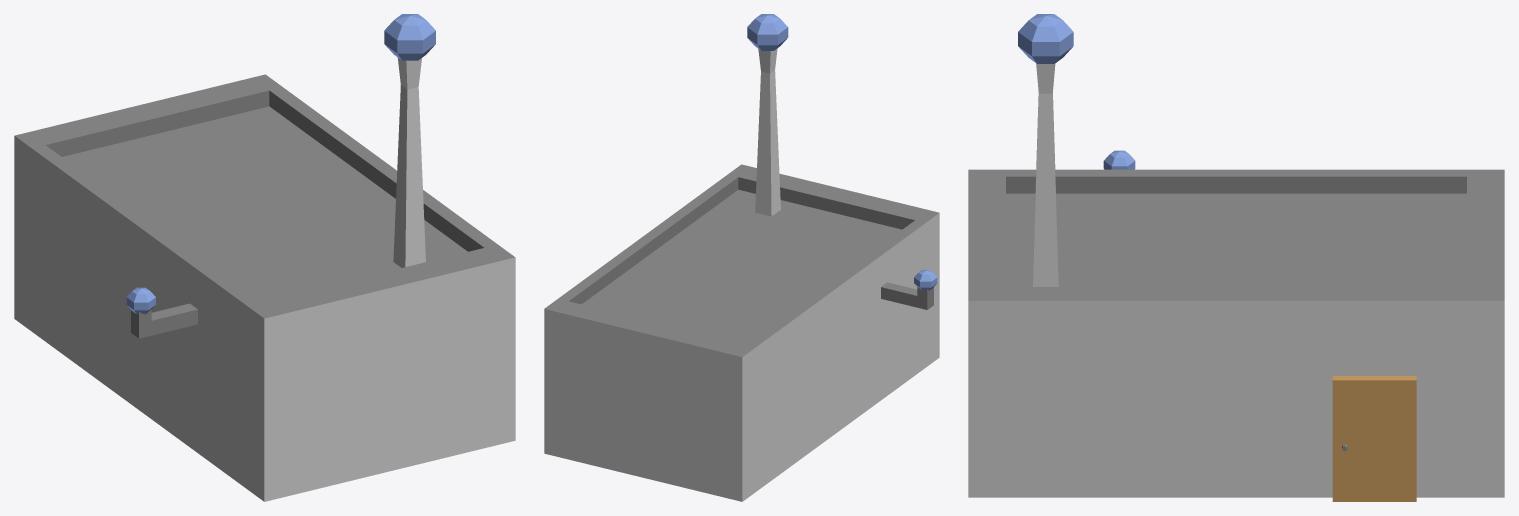
The model's file is bMinisub1.glb.
3 renders of one model, left to right at view 1: azimuth 30°, elevation 25°; view 2: azimuth 150°, elevation 25°; view 3: azimuth 270°, elevation 25°, orthographic. The views are drawn at different scales.
Parts seen in each view (by area): view 1: Мини Подстанция 1; view 2: Мини Подстанция 1; view 3: Мини Подстанция 1.
Part boxes in pixels (x1,y1,x2,y2): Мини Подстанция 1: (14, 14, 515, 501); Мини Подстанция 1: (544, 14, 939, 501); Мини Подстанция 1: (968, 14, 1504, 501).
Size of the model in its own units: 6.71 by 8.15 by 8.89.
